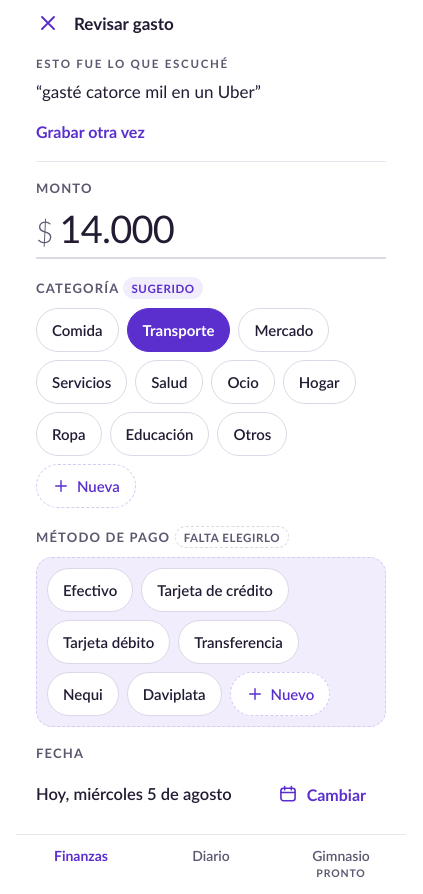
Test: criterion 9.2 — an undetermined field is empty AND marked › marks the payment method, and clears the mark once it is chosen
Step 1. Click the radio button labelled "Efectivo" → (90, 590), box x1=47 y1=568 x2=133 y2=612
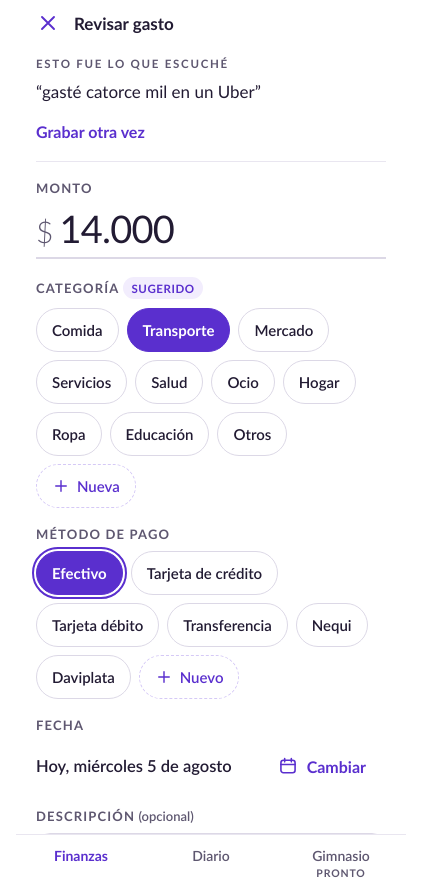
Now the text "Falta elegirlo" is gone
